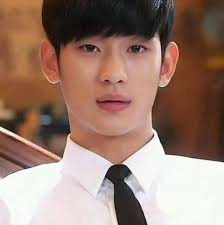BOY: (36, 1, 181, 135)
